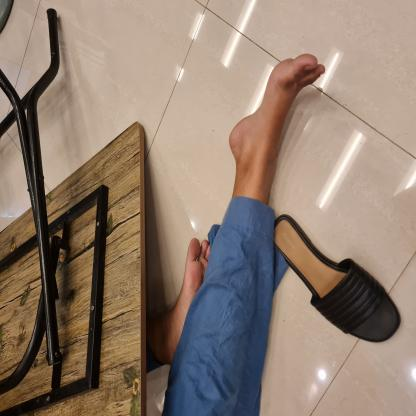leg: (224, 50, 331, 198), (146, 232, 214, 360)
